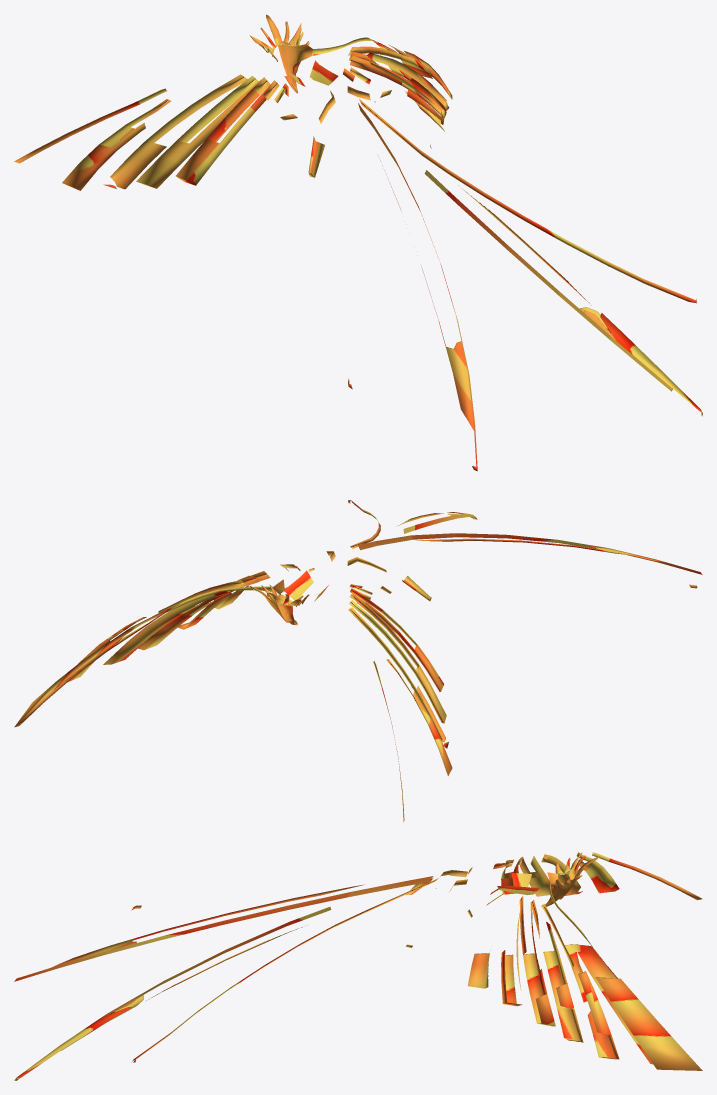
Rendered from relic bromodadali.fbx.
3 views of the same model, one above another, from view 1: azimuth 30°, elevation 25°; view 2: azimuth 150°, elevation 25°; view 3: azimuth 270°, elevation 25° (orthographic). The views are drawn at different scales.
Parts seen in each view (by area): view 1: Cube; view 2: Cube; view 3: Cube.
Boxes of the visible parts, left/top/right/bottom form: Cube: left=14, top=14, right=702, bottom=471; Cube: left=14, top=500, right=702, bottom=821; Cube: left=14, top=852, right=702, bottom=1080.
Size of the model in its own units: 1204 by 549 by 1968.
Materials: 1 (1 with a texture image).
